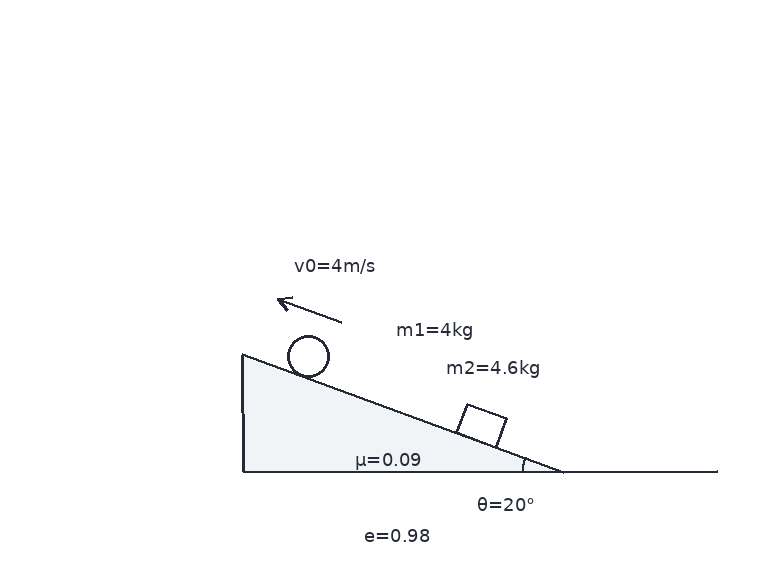ball: (285, 333, 331, 379)
block: (454, 401, 508, 448)
ramp: (241, 352, 565, 473)
